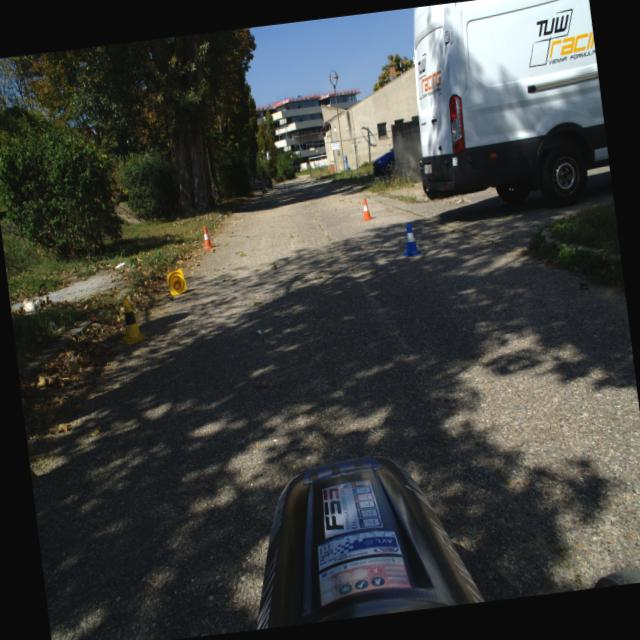blue_cone: (399, 221, 422, 257)
orange_cone: (358, 197, 374, 220), (200, 225, 212, 248)
yellow_cone: (114, 296, 148, 345), (165, 268, 188, 296)
